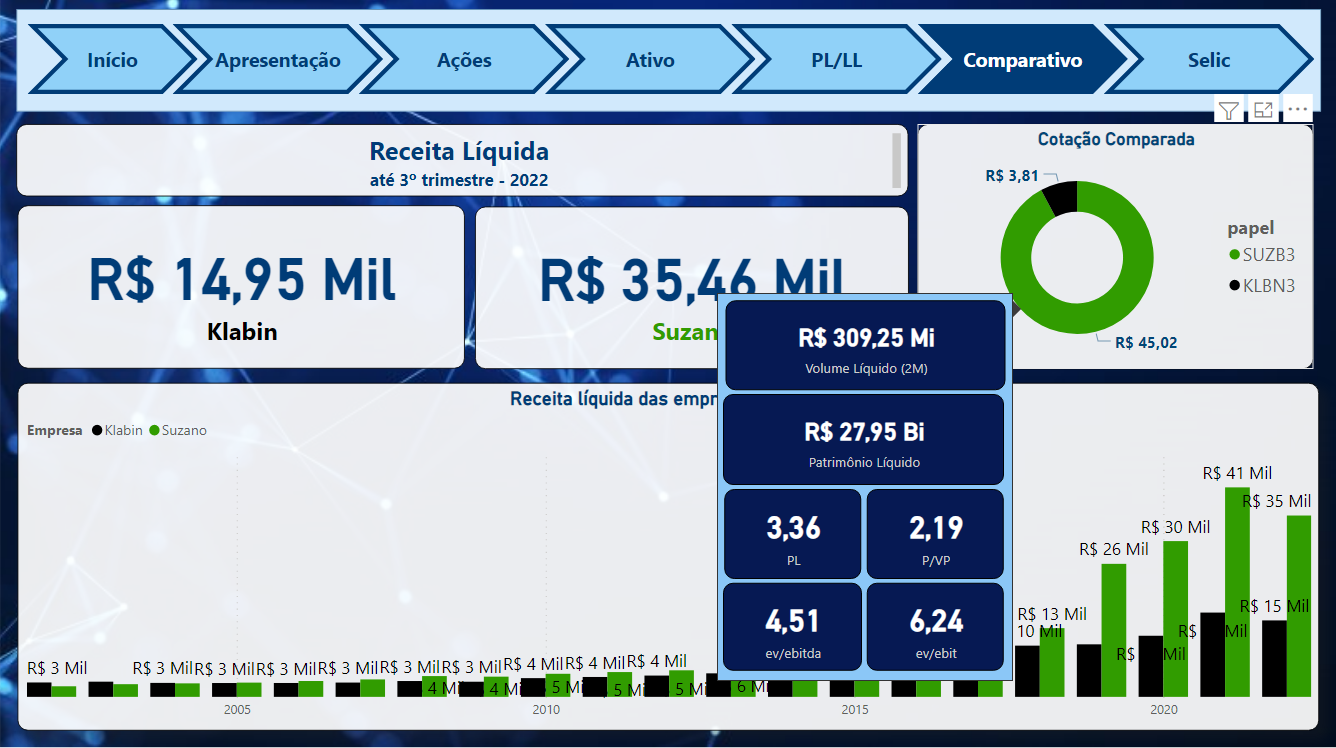

Layout of this report page (visuals, bound fields, positions):
{"tool":"powerbi","page":{"name":"Comparativo","canvas":[1280,720],"ordinal":5},"visuals":[{"type":"image","box":[0,0,1280.5,720.1],"z":0},{"type":"clusteredColumnChart","title":"Receita líquida das empresas por Ano","fields":{"Category":["Tudo.Trimestres"],"Y":["Sum(Tudo.  Receita líquida)"],"Series":["Tudo.Empresa"]},"box":[22,369.1,1236.4,330.7],"z":1000},{"type":"card","fields":{"Values":["Sum(Tudo.  Receita líquida)"]},"box":[455.8,201.8,411.9,154.3],"z":2000},{"type":"card","fields":{"Values":["Sum(Tudo.  Receita líquida)"]},"box":[21.4,200.6,424.9,155.5],"z":3000},{"type":"textbox","box":[20.2,123.4,847.5,68.8],"z":4000},{"type":"shape","box":[20.6,13.7,1239.1,97.4],"z":5000},{"type":"shape","box":[30.9,29,161.4,66.2],"z":6000},{"type":"shape","box":[169.1,29,200,66.2],"z":7000},{"type":"shape","box":[345.9,29,200,66.2],"z":8000},{"type":"shape","box":[522.8,29,200,66.2],"z":9000},{"type":"shape","box":[699.6,29,200,66.2],"z":10000},{"type":"shape","box":[876.4,29,200,66.2],"z":11000},{"type":"shape","box":[1053.2,29,200,66.2],"z":12000},{"type":"donutChart","title":"Cotação Comparada","fields":{"Category":["resultados_fundamentus.papel"],"Y":["Sum(resultados_fundamentus.cotacao)"]},"box":[876,123.4,376.3,232.6],"z":13000}]}

Visuals, with their boxes in screenshot pixels (x1, y1, x2, y2), scaled from the page's 1280x720 canvas onto the 1336x748 screenshot:
image: rect(0, 0, 1335, 747)
"Receita líquida das empresas por Ano" clusteredColumnChart: rect(23, 383, 1313, 727)
card - Sum(Tudo.  Receita líquida): rect(476, 210, 906, 370)
card - Sum(Tudo.  Receita líquida): rect(22, 208, 466, 370)
textbox: rect(21, 128, 906, 200)
shape: rect(22, 14, 1315, 115)
shape: rect(32, 30, 201, 99)
shape: rect(176, 30, 385, 99)
shape: rect(361, 30, 570, 99)
shape: rect(546, 30, 754, 99)
shape: rect(730, 30, 939, 99)
shape: rect(915, 30, 1123, 99)
shape: rect(1099, 30, 1308, 99)
"Cotação Comparada" donutChart: rect(914, 128, 1307, 370)
